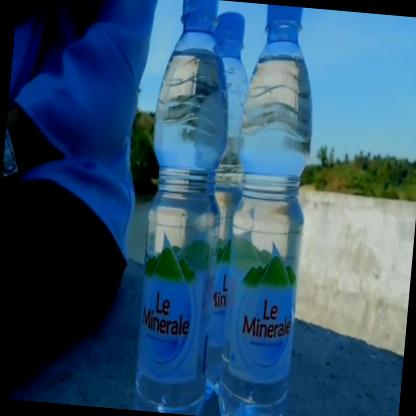plastic_bottles: (137, 0, 327, 416)
